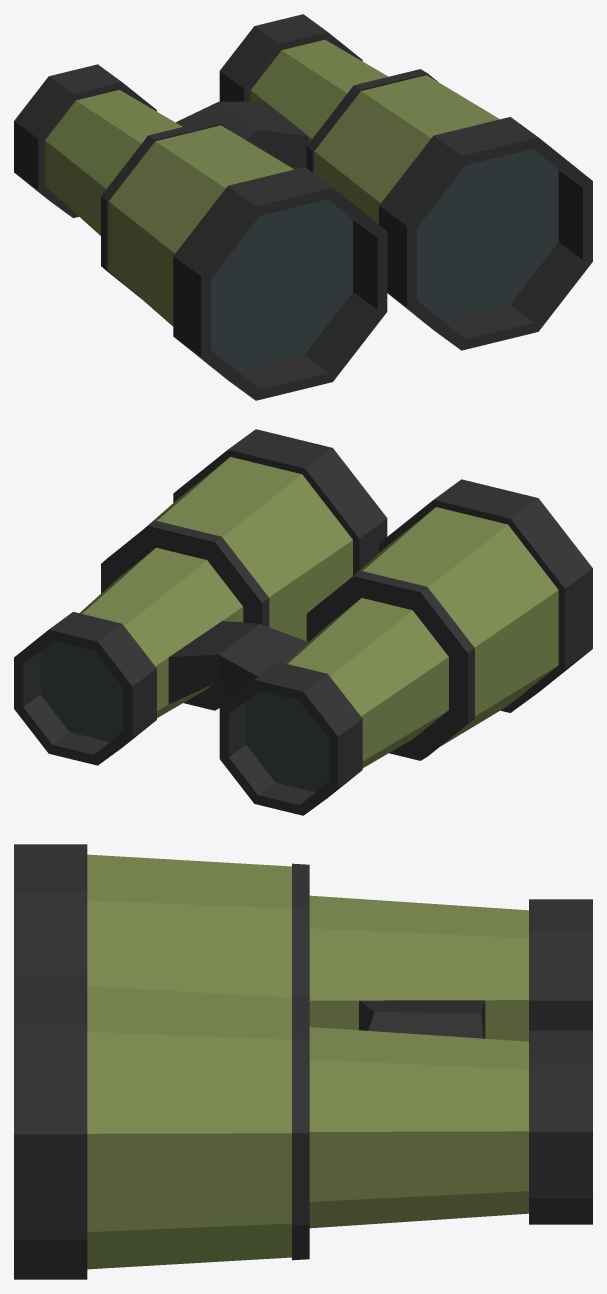
The model's file is Binocular.glb.
3 renders of one model, top to bottom at view 1: azimuth 30°, elevation 25°; view 2: azimuth 150°, elevation 25°; view 3: azimuth 270°, elevation 25°, orthographic. The views are drawn at different scales.
Visible parts, largest first — view 1: Binoculars; view 2: Binoculars; view 3: Binoculars.
Boxes of the visible parts, left/top/right/bottom form: Binoculars: left=14, top=14, right=592, bottom=400; Binoculars: left=14, top=429, right=592, bottom=815; Binoculars: left=14, top=844, right=592, bottom=1279.
Bounding box in the file's own units: 0.7455 × 0.354 × 0.7295.
Materials: 2 (1 with a texture image).
